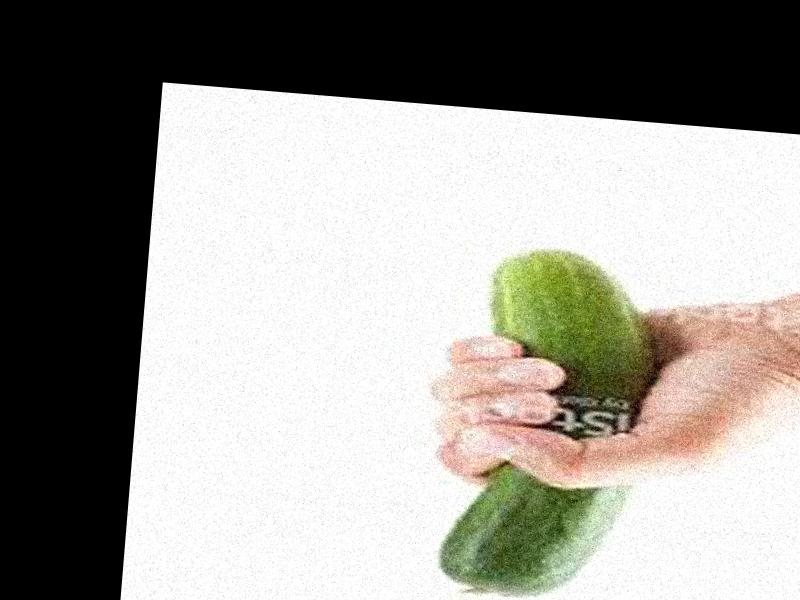Cucumber: (432, 244, 665, 600)
